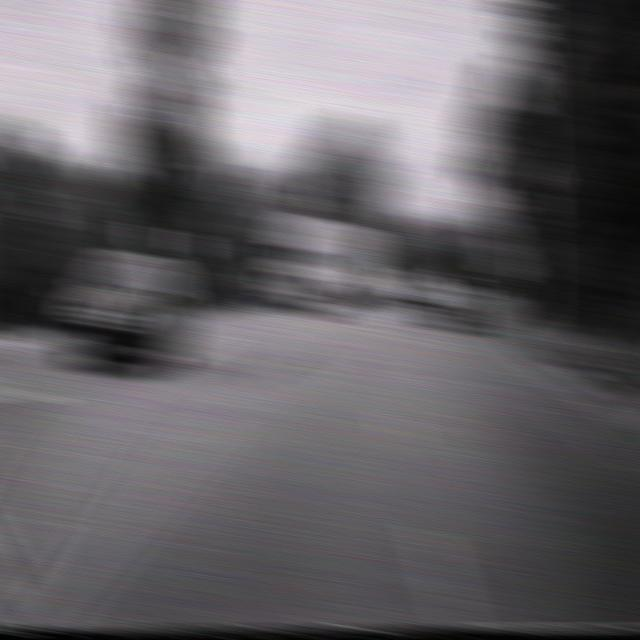pedestrianCrossing: (512, 152, 554, 195)
